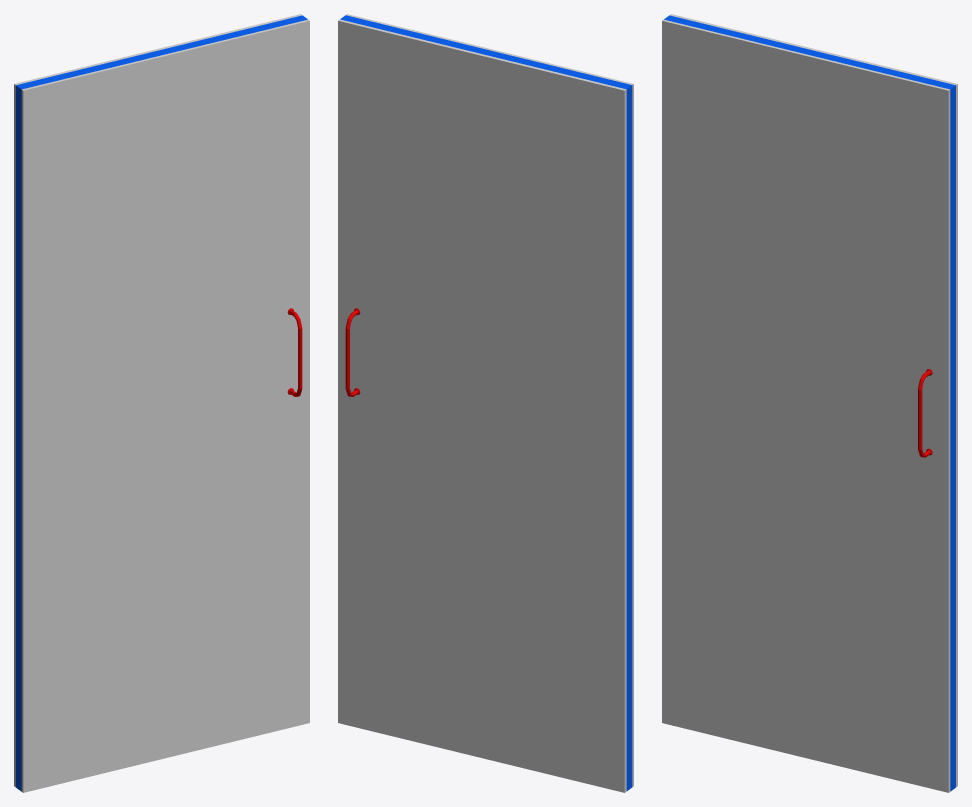
File: Door01.fbx
3 views of the same model, side by side, from view 1: azimuth 30°, elevation 25°; view 2: azimuth 150°, elevation 25°; view 3: azimuth 330°, elevation 25° (orthographic).
Parts seen in each view (by area): view 1: Door01; view 2: Door01; view 3: Door01.
Part boxes in pixels (bbox=[...]): Door01: bbox=[14, 14, 309, 792]; Door01: bbox=[338, 14, 633, 792]; Door01: bbox=[662, 14, 957, 792].
Size of the model in its own units: 89.5 by 210 by 16.47.
